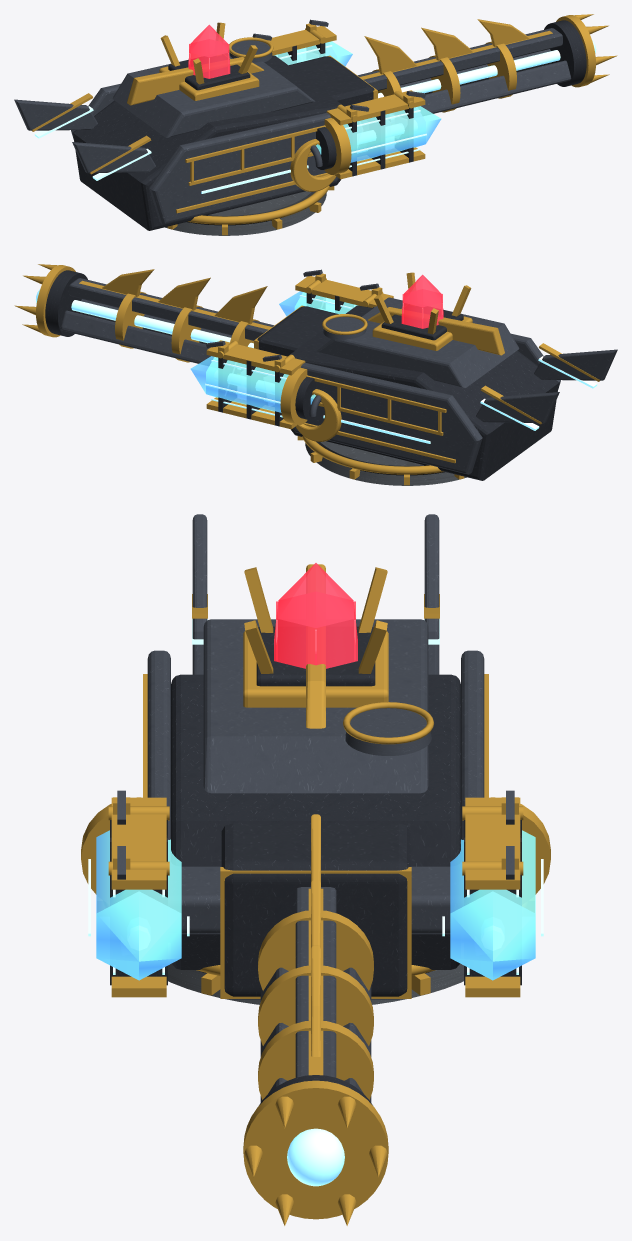
Rendered from moonbeam-v9.glb.
3 views of the same model, one above another, from view 1: azimuth 30°, elevation 25°; view 2: azimuth 150°, elevation 25°; view 3: azimuth 270°, elevation 25° (orthographic). The views are drawn at different scales.
Size of the model in its own units: 8.89 by 2.62 by 3.24.
Materials: 43 (3 with a texture image).
